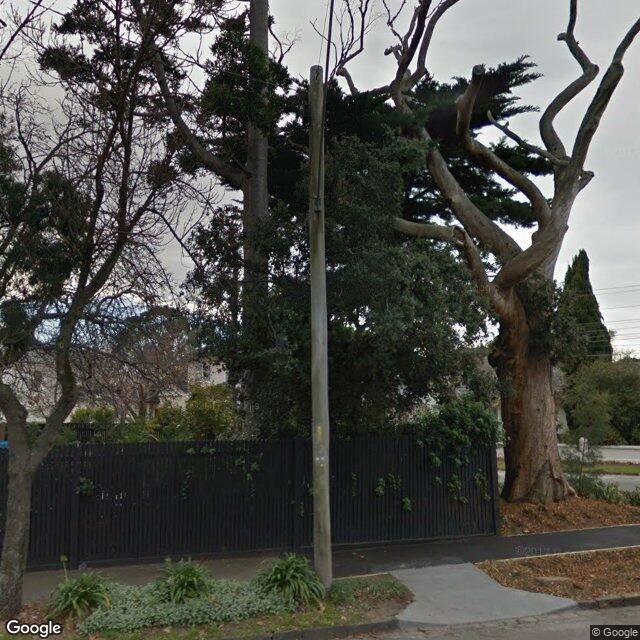timber-pole: (310, 64, 332, 590)
